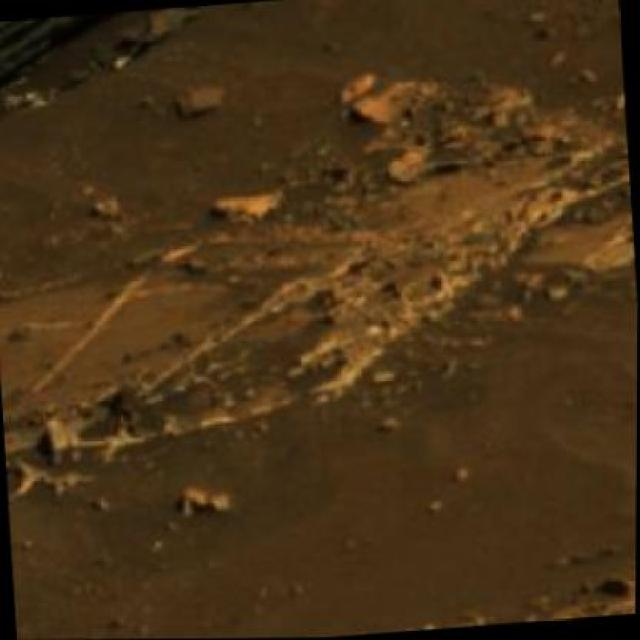rock: (0, 0, 395, 131)
